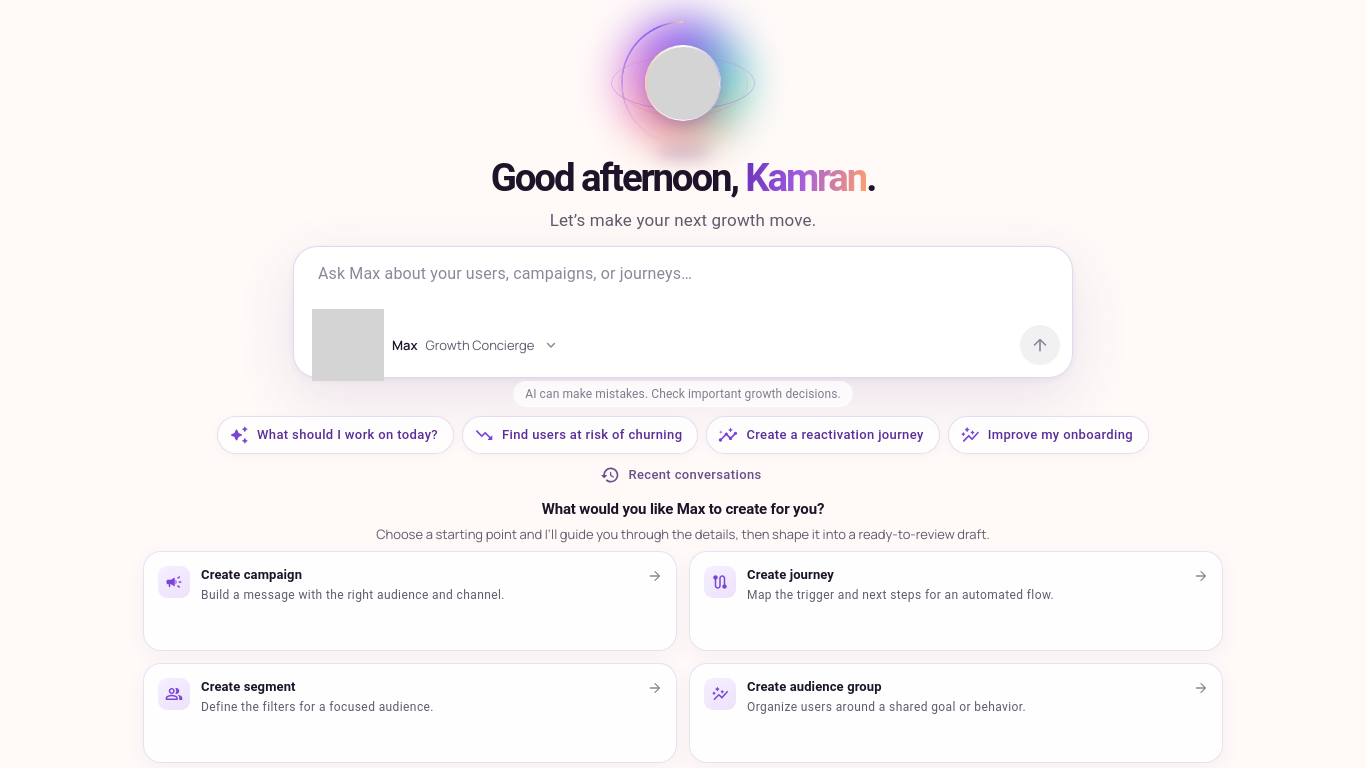
Test: Home chat › keeps recent conversations searchable when the remote search is unavailable
This screenshot has width=1366, height=768.
Click the button "Recent conversations".
click(683, 475)  # box [594,460,772,490]
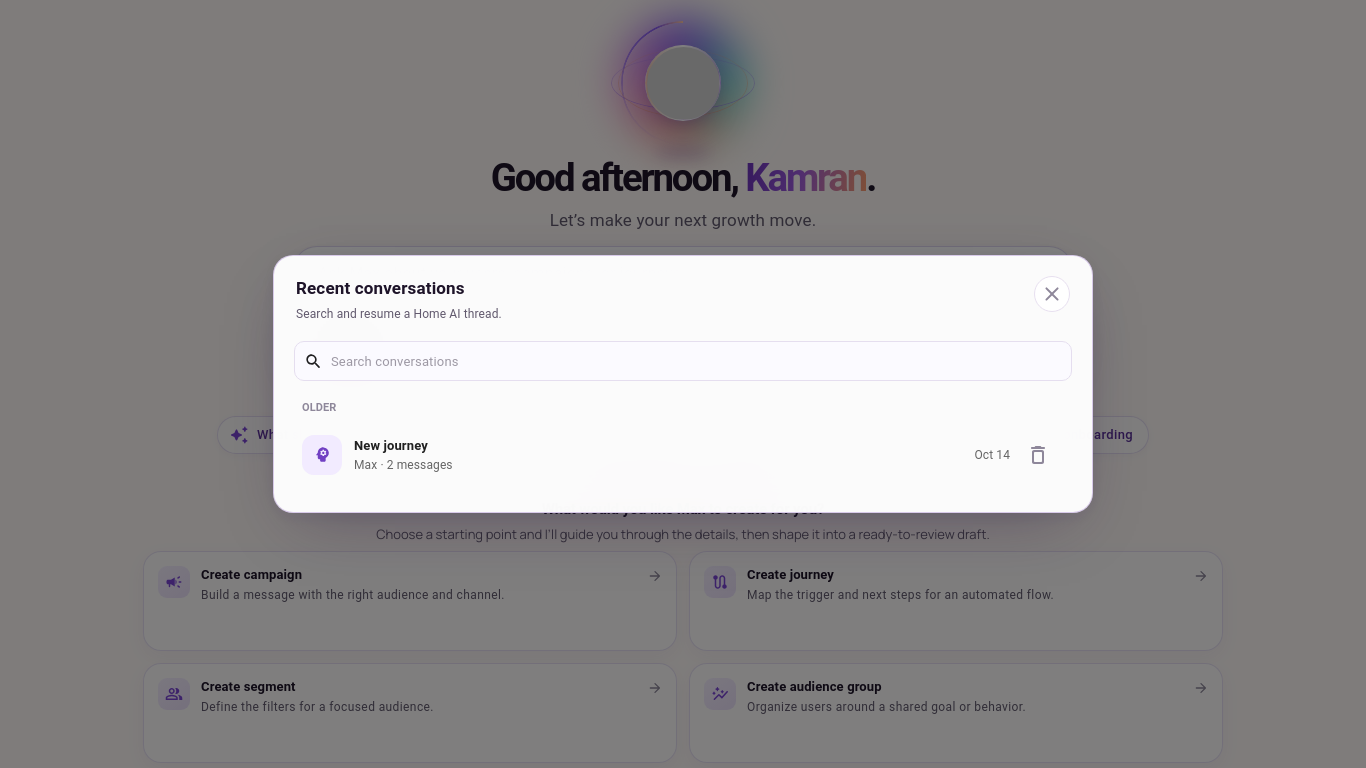
Type "New Journey" into the field labelled "Search conversations".
click(696, 361); type("New Journey")  # box [331,348,1062,374]
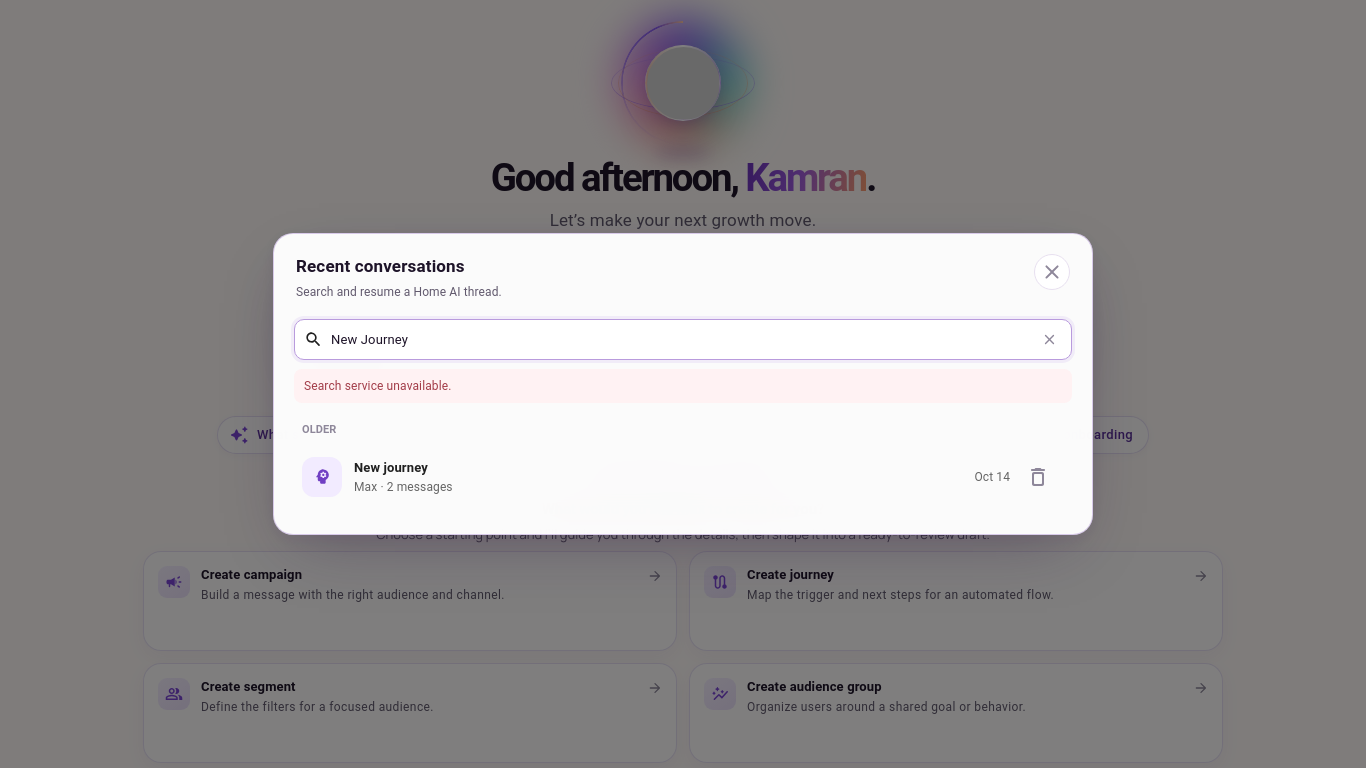
Expected: the button with aria-label "Open conversation New journey" is shown, [302,457,1010,497]
Expected: the message reads "Search service unavailable.", [304,379,451,393]
